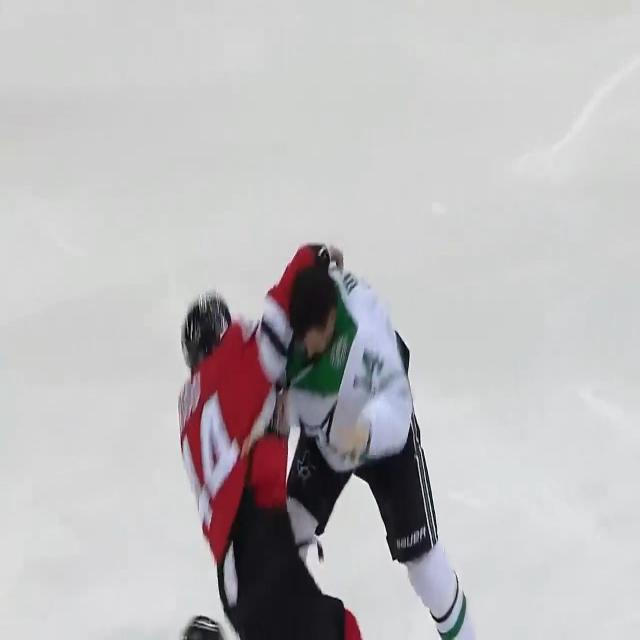fight: (168, 223, 464, 640)
